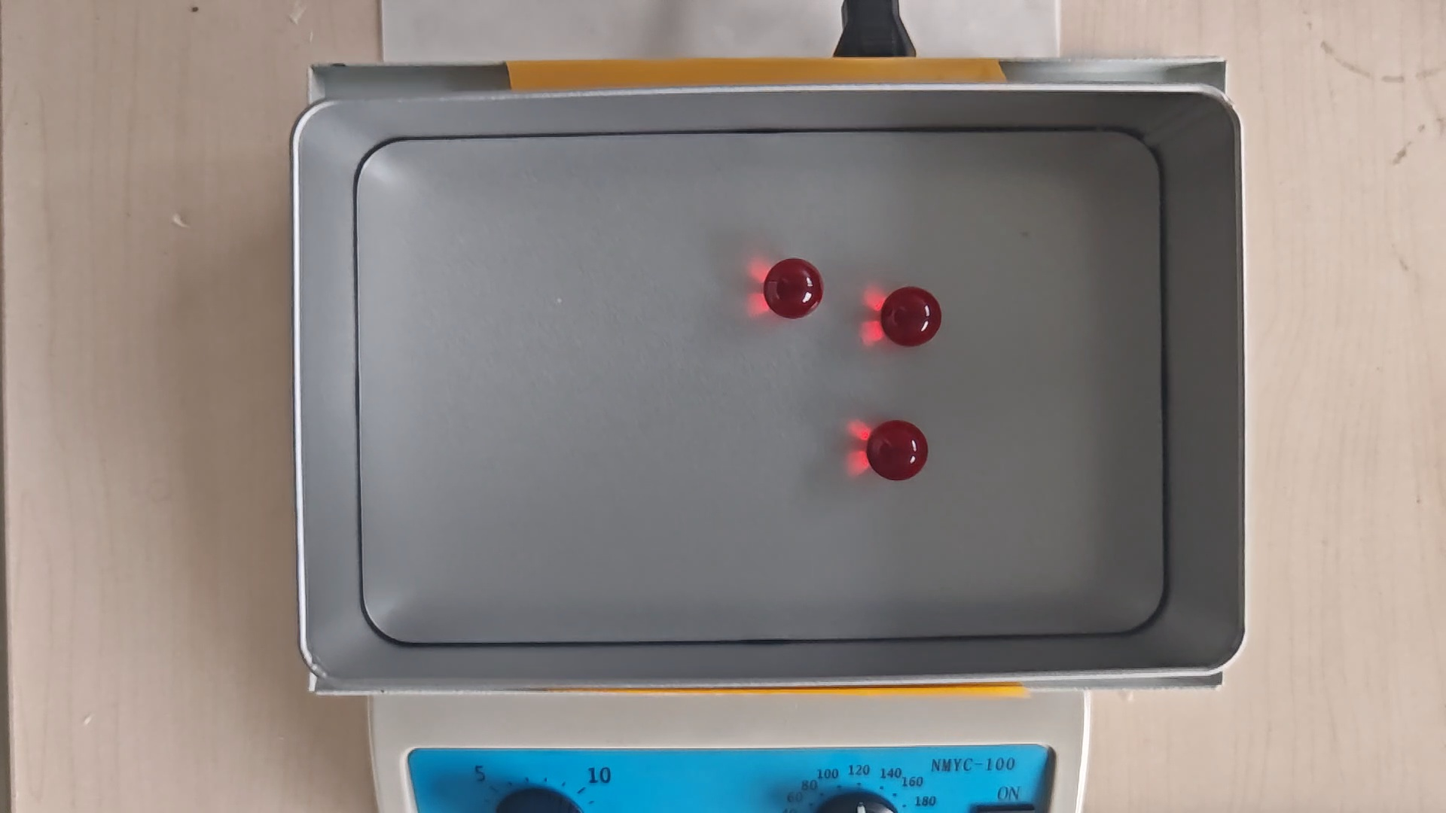ball: (882, 284, 941, 349), (868, 419, 927, 482), (763, 257, 822, 319)
container: (355, 135, 1167, 638)
